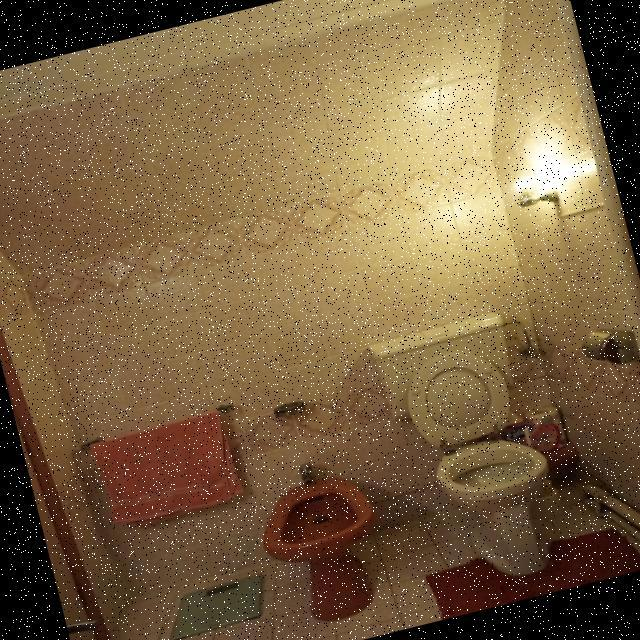toilet: (366, 303, 575, 600), (245, 446, 397, 633)
